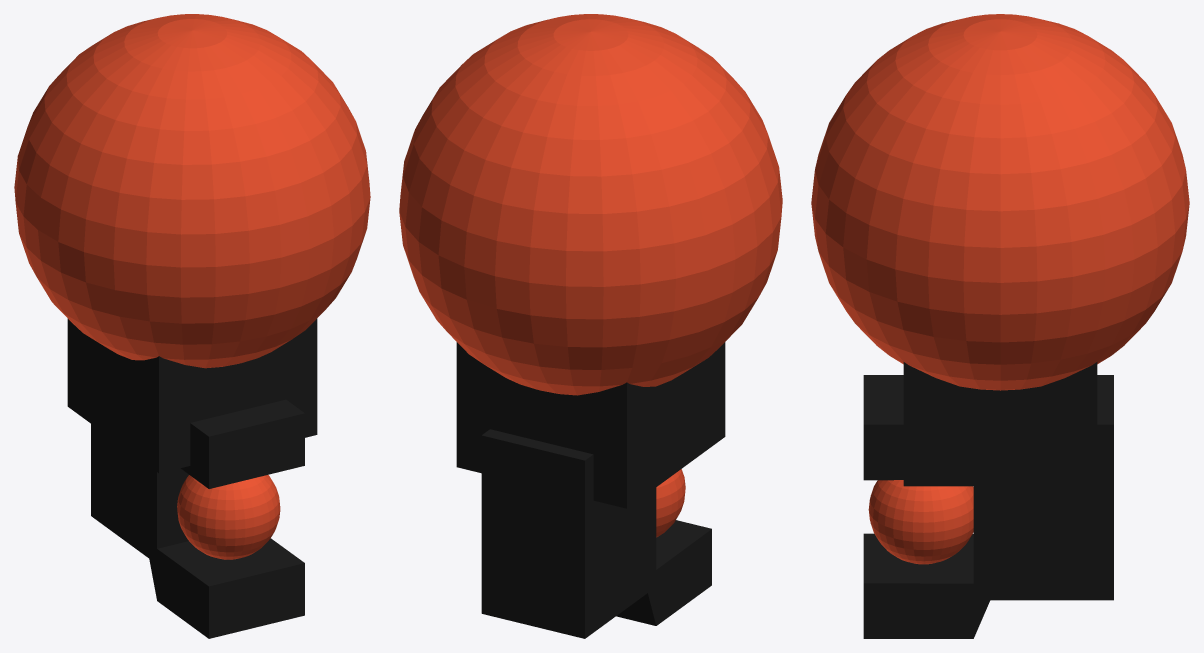
File: Enemy_Bloon.fbx
The picture shows the model from 3 angles, left to right: view 1: azimuth 30°, elevation 25°; view 2: azimuth 150°, elevation 25°; view 3: azimuth 270°, elevation 25°; orthographic projection. The views are drawn at different scales.
Visible parts, largest first — view 1: Sphere, Cube.008, Cube.007, Sphere.001; view 2: Sphere, Cube.008, Cube.007, Sphere.001; view 3: Sphere, Cube.008, Cube.007, Sphere.001.
Part boxes in pixels (x1,y1,x2,y2): Sphere: (14,14,370,368); Cube.008: (91,399,304,638); Cube.007: (67,318,317,473); Sphere.001: (177,475,280,559); Sphere: (399,14,782,395); Cube.008: (481,429,711,638); Cube.007: (456,342,725,508); Sphere.001: (656,469,685,537); Sphere: (811,14,1189,390); Cube.008: (863,375,1113,638); Cube.007: (903,362,1097,486); Sphere.001: (868,480,973,564).
Size of the model in its own units: 322 by 547 by 322.
